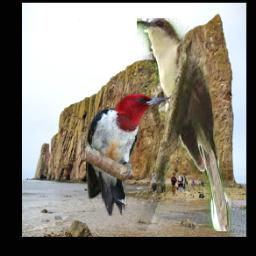Cuckoo: (137, 19, 231, 232)
Woodpecker: (86, 93, 170, 217)
